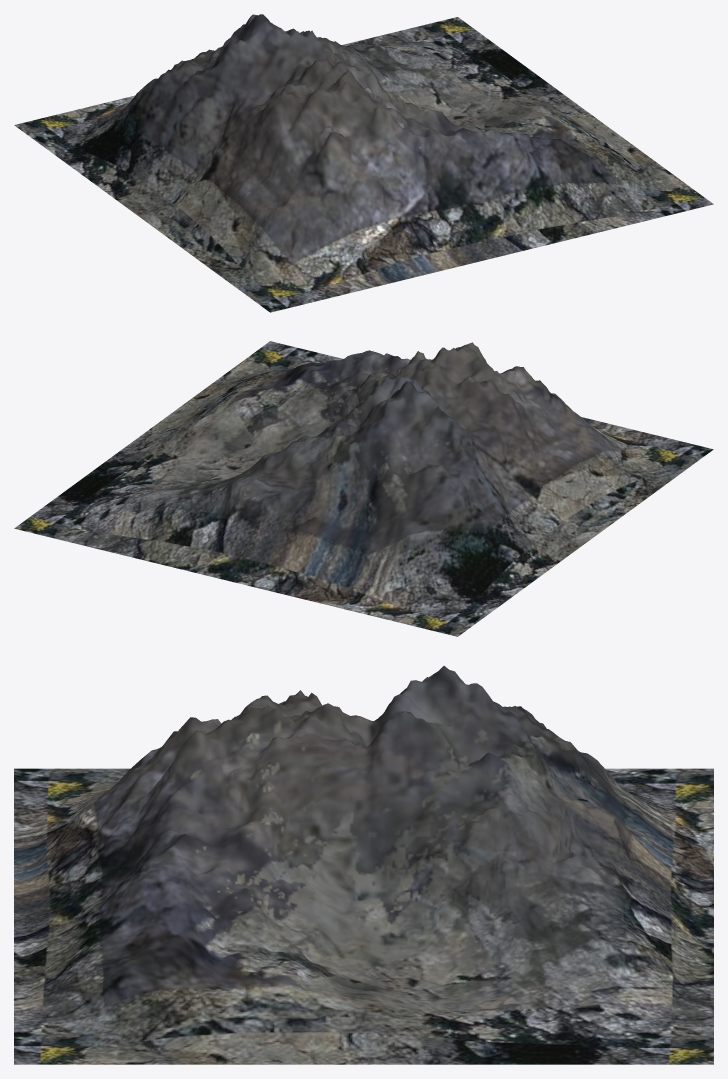
The model's file is Gebirge.dae.
3 renders of one model, top to bottom at view 1: azimuth 30°, elevation 25°; view 2: azimuth 150°, elevation 25°; view 3: azimuth 270°, elevation 25°, orthographic. The views are drawn at different scales.
Visible parts, largest first — view 1: Landscape; view 2: Landscape; view 3: Landscape.
Part boxes in pixels (x1,y1,x2,y2): Landscape: (14, 14, 713, 312); Landscape: (14, 341, 713, 636); Landscape: (14, 666, 713, 1064).
Size of the model in its own units: 102 by 102 by 32.24.
1 material, 1 textured.
